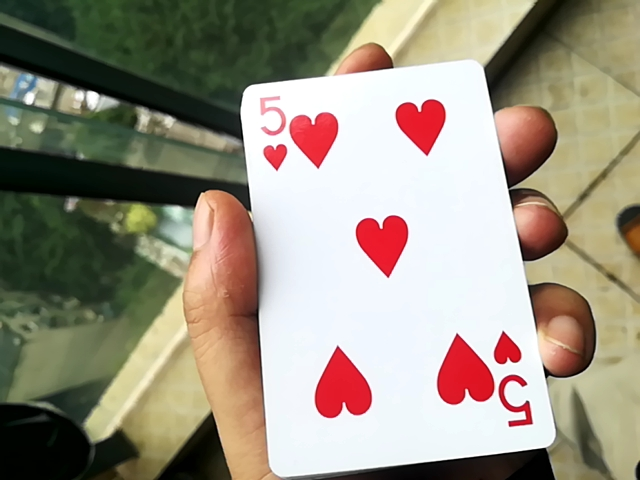hx 5: (227, 65, 554, 477)
